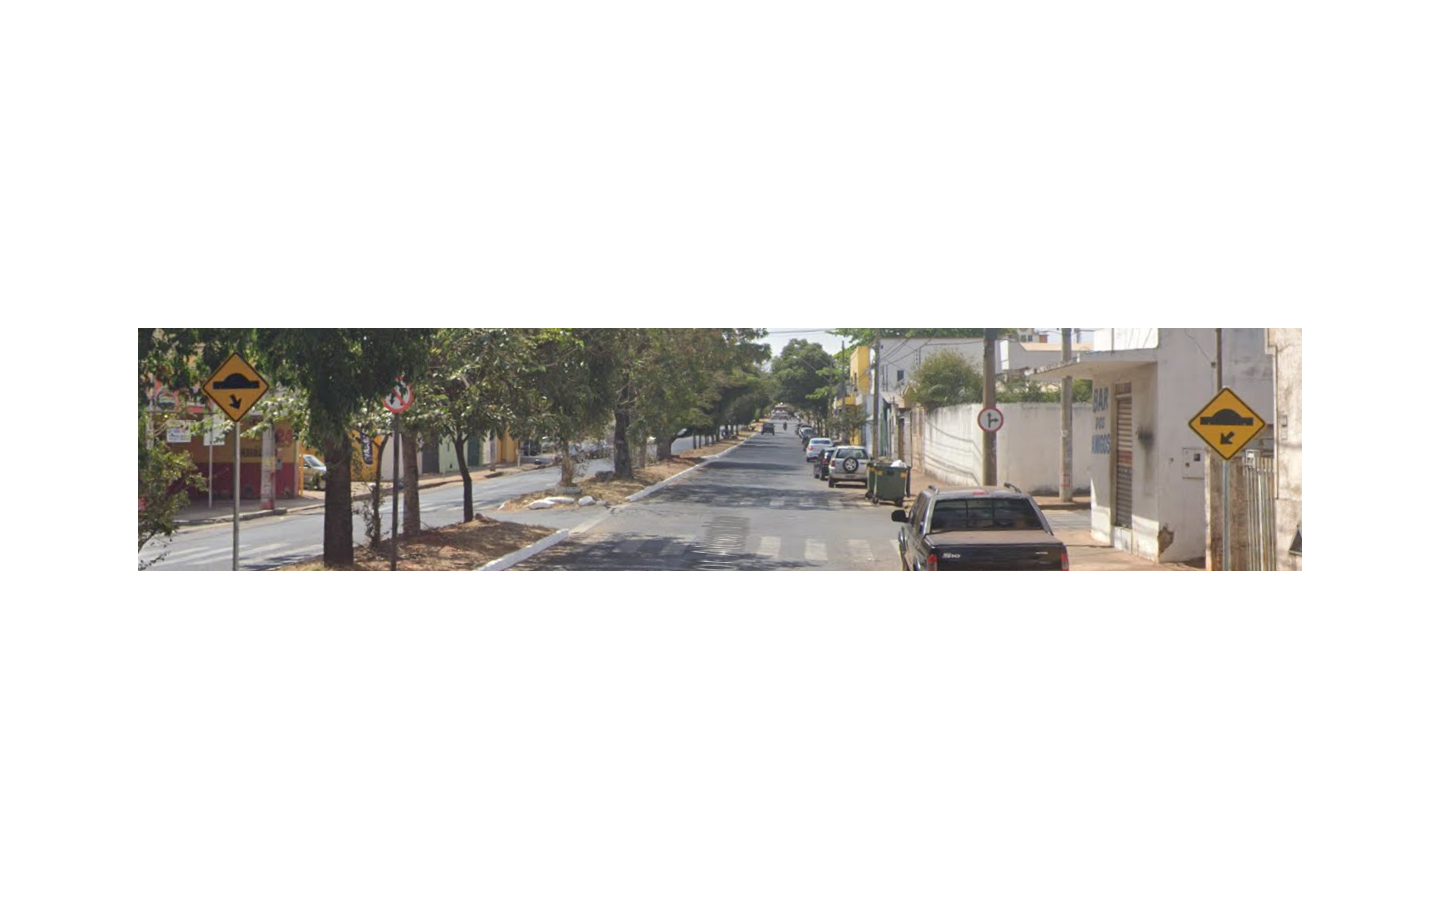lomb: (1188, 386, 1266, 460), (201, 351, 269, 422)
